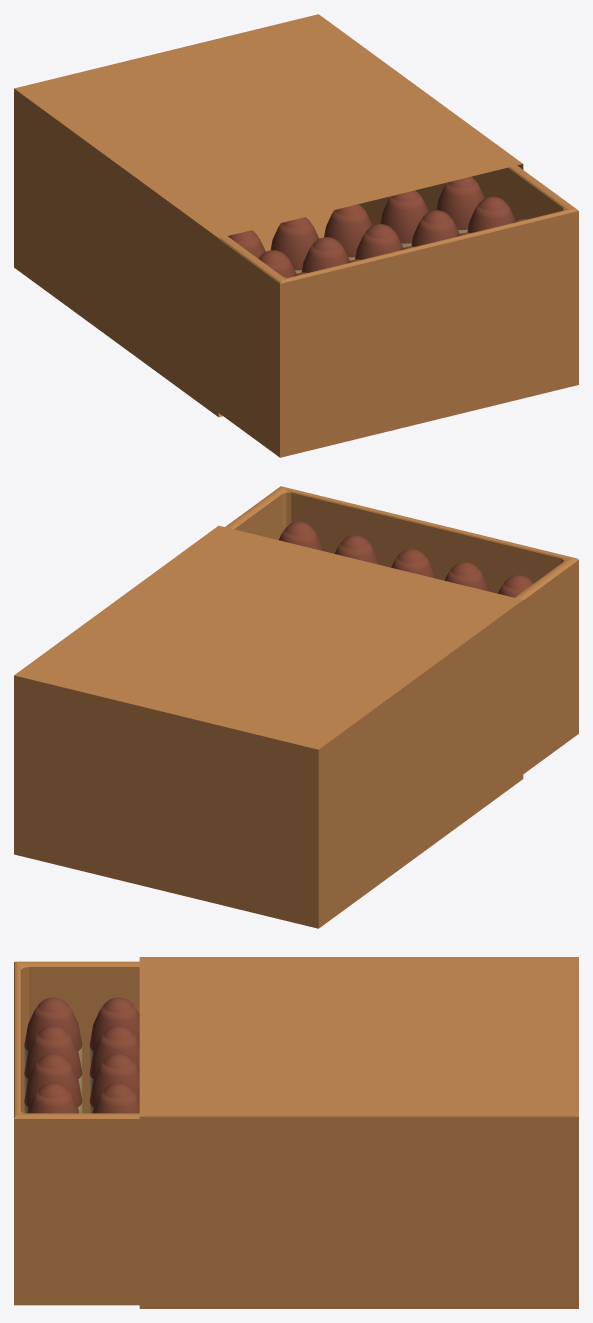
File: PistolBulletBox01.fbx
The picture shows the model from 3 angles, top to bottom: view 1: azimuth 30°, elevation 25°; view 2: azimuth 150°, elevation 25°; view 3: azimuth 270°, elevation 25°; orthographic projection. The views are drawn at different scales.
Visible parts, largest first — view 1: Bullet.001; view 2: Bullet.001; view 3: Bullet.001.
Boxes of the visible parts, x1,y1,x2,y2 form: Bullet.001: (14,14,578,457); Bullet.001: (14,486,578,928); Bullet.001: (14,957,578,1308).
Bounding box in the file's own units: 10.19 × 5.73 × 15.26.
